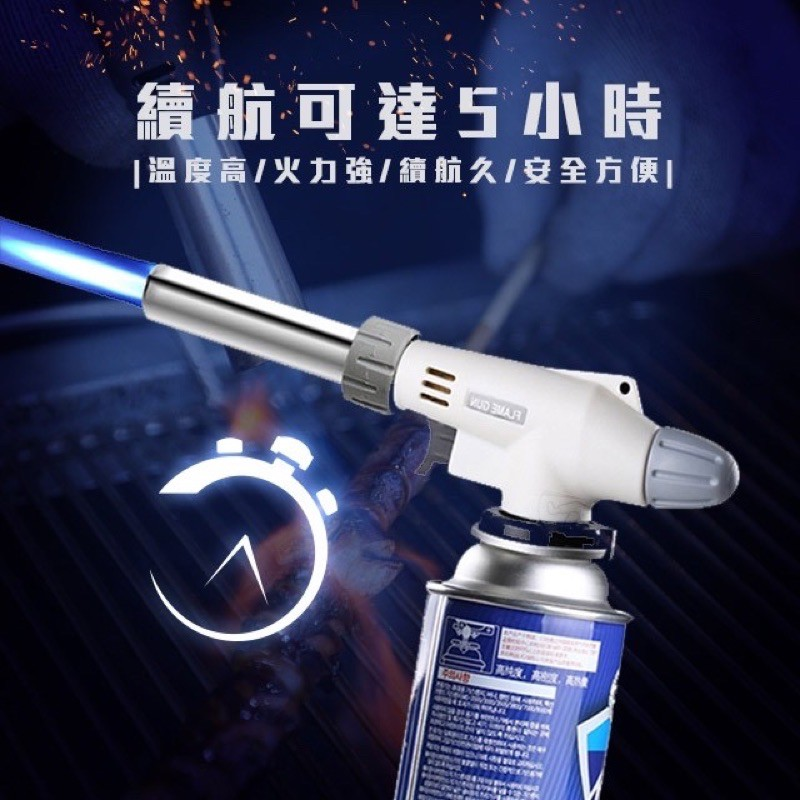gastorch: (139, 264, 739, 800)
